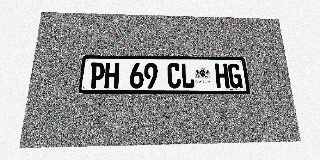6: (130, 63, 144, 88)
9: (144, 63, 158, 88)
C: (167, 63, 181, 88)
G: (228, 64, 243, 88)
H: (104, 62, 119, 88), (215, 63, 230, 88)
L: (181, 63, 195, 88)
P: (89, 62, 105, 88)
